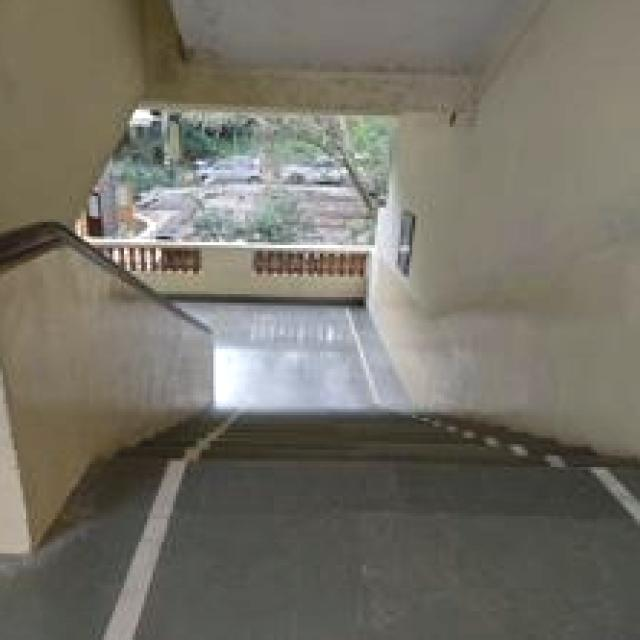downstair: (183, 379, 572, 529)
